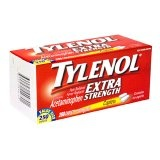grozi_72: (8, 32, 152, 124)
